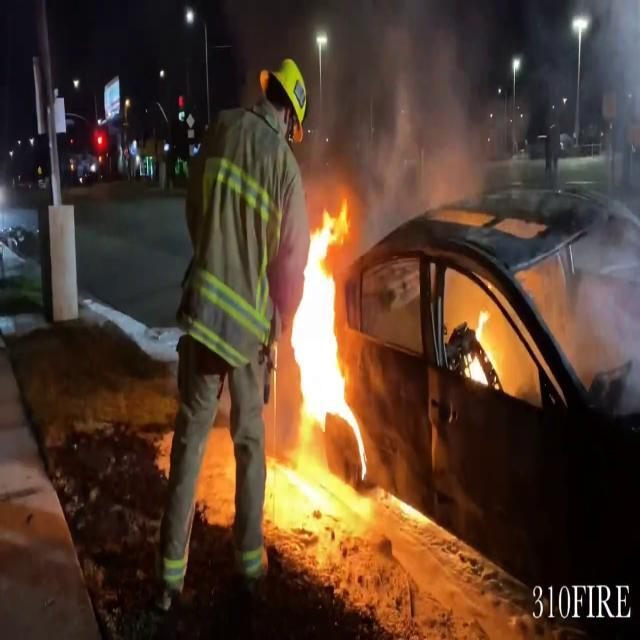Fire: (282, 198, 368, 492)
Smoke: (323, 0, 498, 229), (553, 2, 640, 406)
